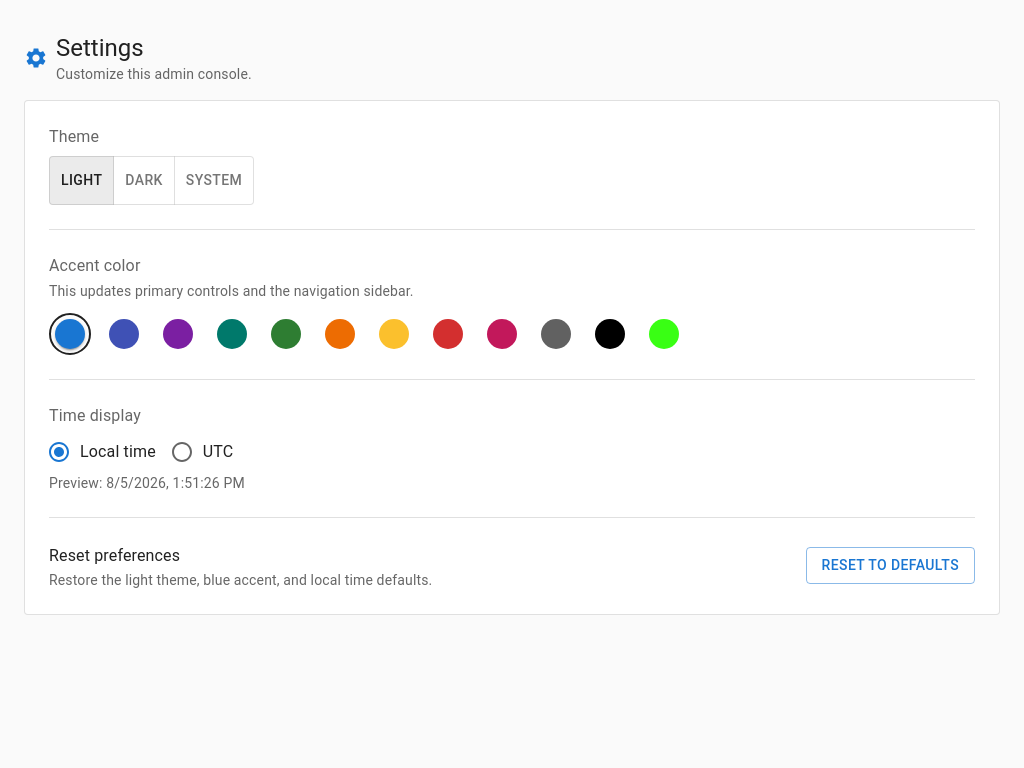
Test case: Settings page › exposes accessible controls and applies changes immediately
The image size is (1024, 768).
Expected: the heading "Settings" is shown, [56,34,144,62]
Expected: the radio button labelled "UTC" is shown, [170,440,233,464]
Click the button with aria-label "Dark theme" at (144, 180), box [113,156,175,204]
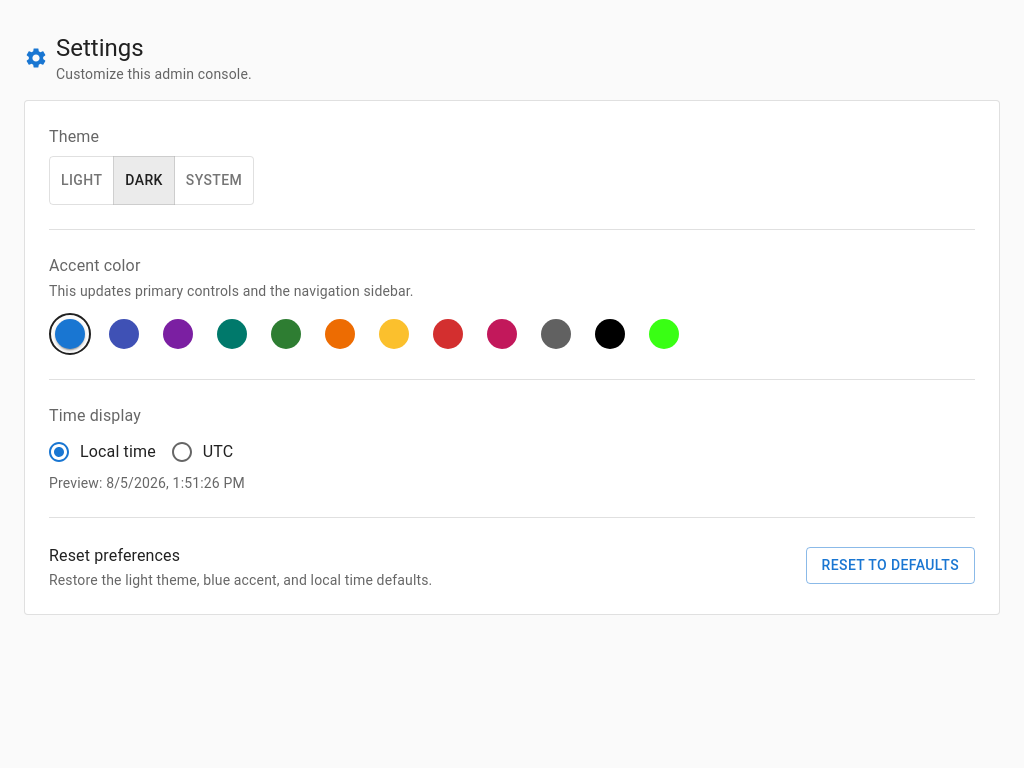
Click the button named "Teal accent" at (232, 334), box [211,312,253,354]
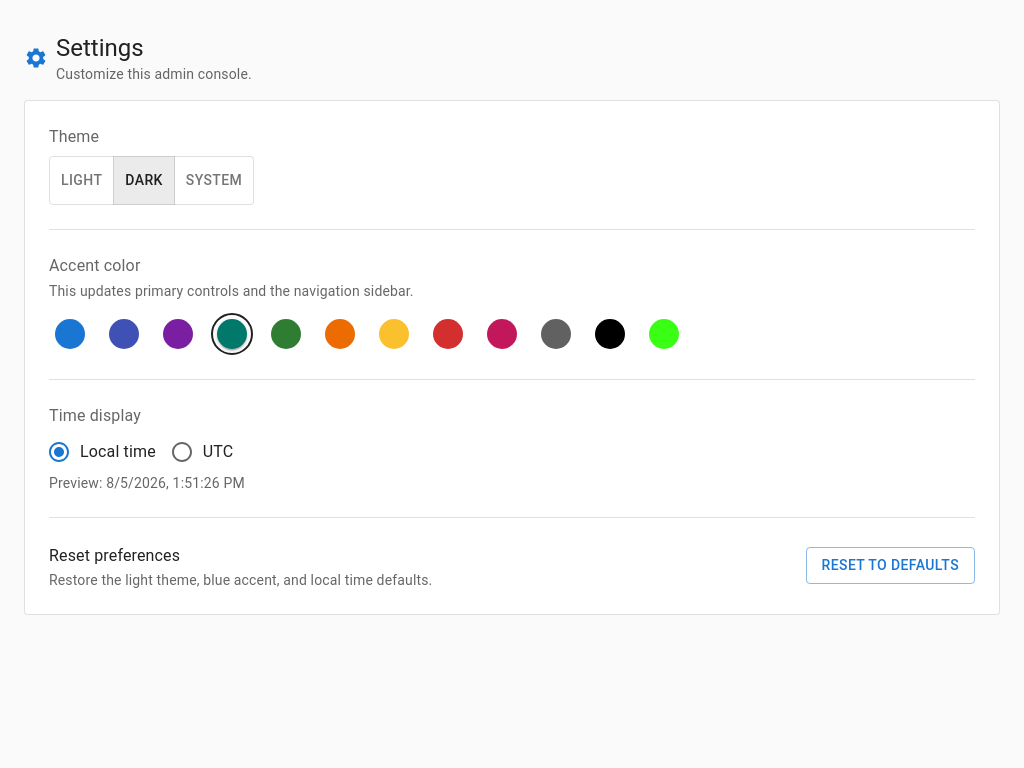
Click the radio button labelled "UTC" at (202, 452), box [170,440,233,464]
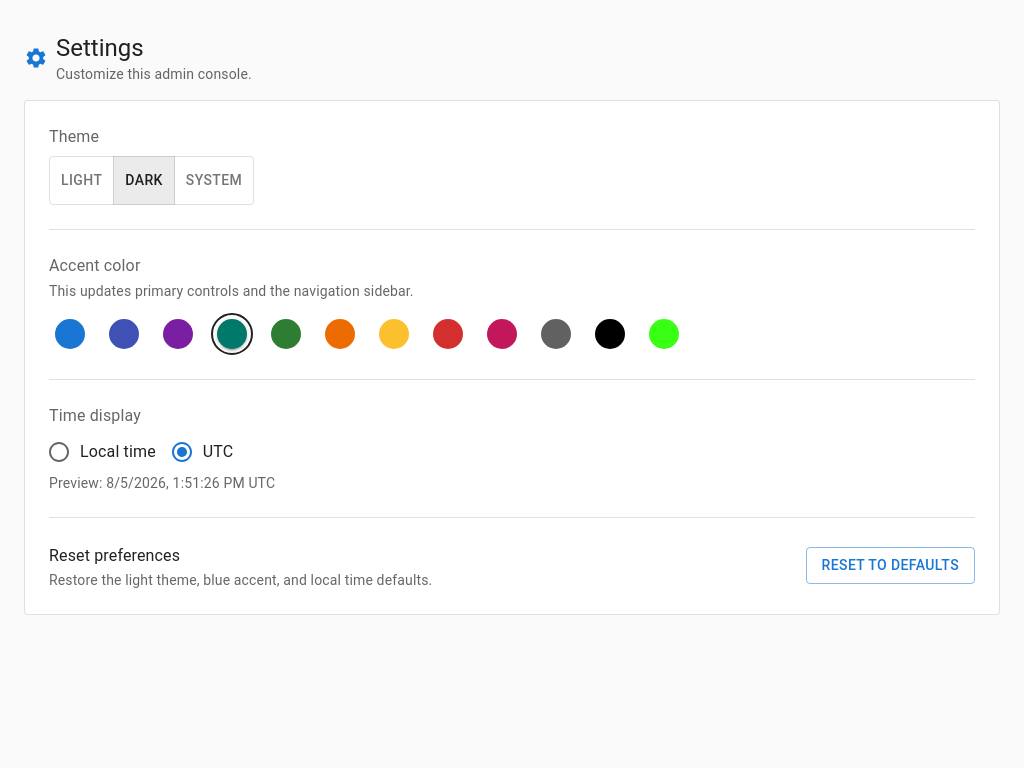
Expected: the button with aria-label "Dark theme" is enabled, [113,156,175,204]
Expected: the text "Preview: 8/5/2026, 1:51:26 PM UTC" is shown, [49,474,275,490]
